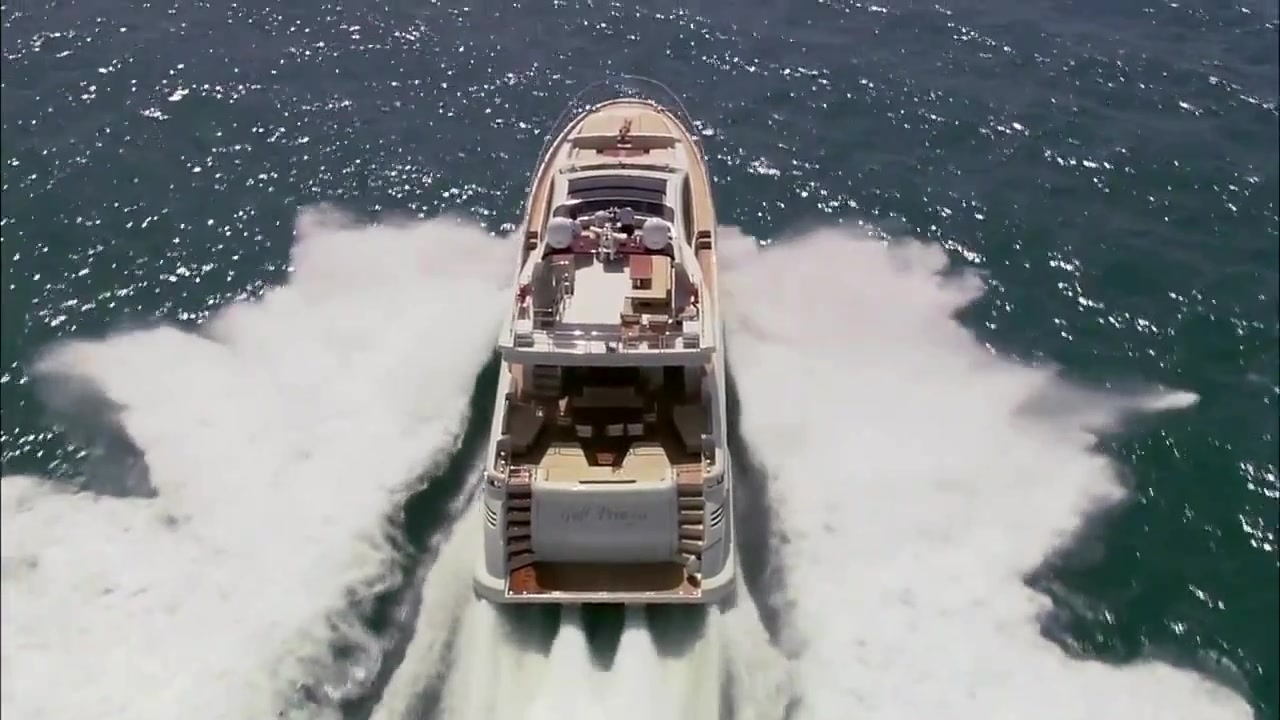boat: (470, 80, 747, 619)
